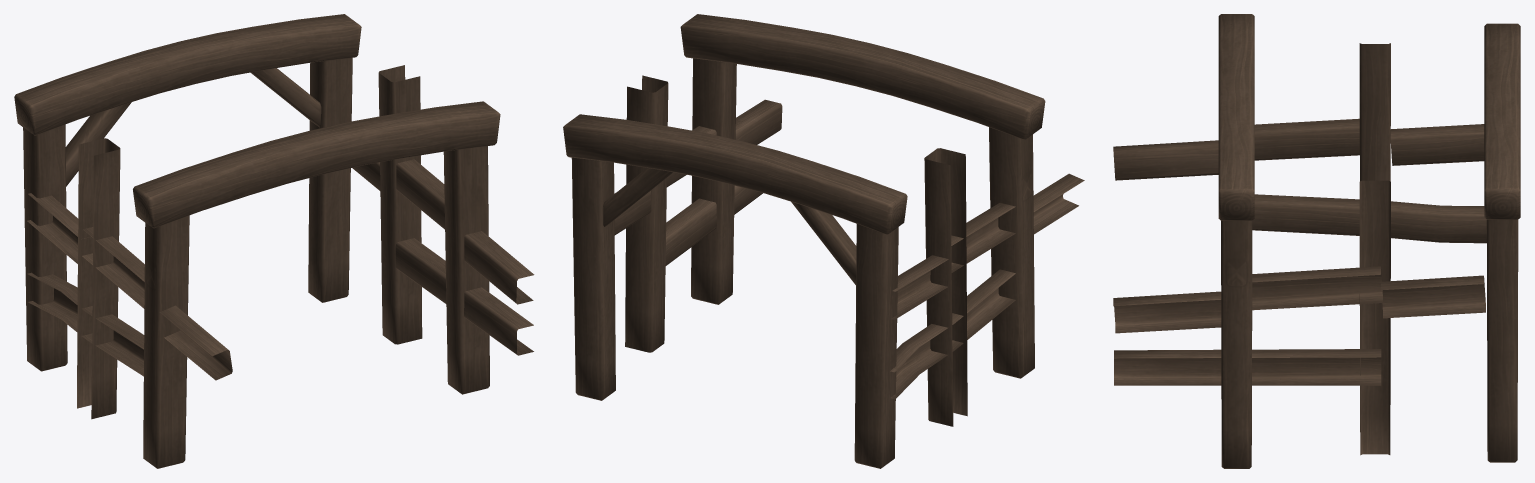
The model's file is minePath_wood2_lod.fbx.
3 views of the same model, side by side, from view 1: azimuth 30°, elevation 25°; view 2: azimuth 150°, elevation 25°; view 3: azimuth 270°, elevation 25° (orthographic). The views are drawn at different scales.
Parts seen in each view (by area): view 1: shaftPath_wood2_LOD0; view 2: shaftPath_wood2_LOD0; view 3: shaftPath_wood2_LOD0.
Boxes of the visible parts, box(x1,y1,x2,y2) form: shaftPath_wood2_LOD0: box(14, 14, 534, 468); shaftPath_wood2_LOD0: box(563, 14, 1084, 468); shaftPath_wood2_LOD0: box(1113, 14, 1520, 468).
Size of what is drawn, in the model's own units: 443 by 345 by 429.
